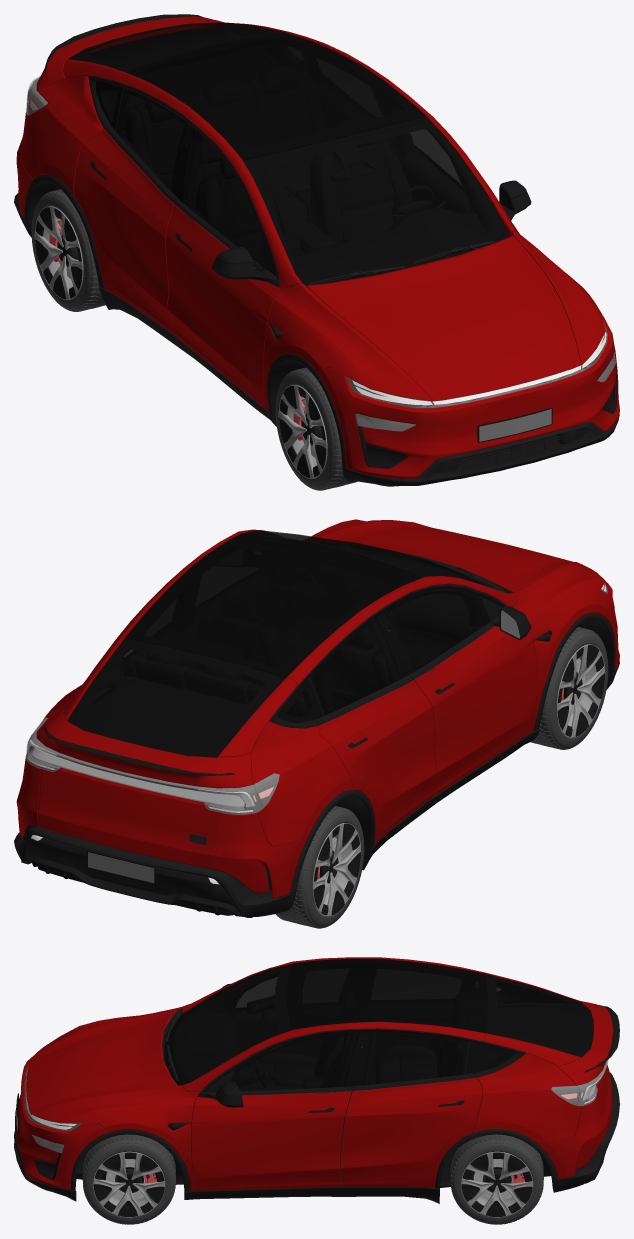
Rendered from 2026_tesla_model_y_performance.glb.
3 renders of one model, top to bottom at view 1: azimuth 30°, elevation 25°; view 2: azimuth 150°, elevation 25°; view 3: azimuth 270°, elevation 25°, orthographic. The views are drawn at different scales.
Visible parts, largest first — view 1: Object_5, Object_9, Object_34, Object_3, Object_35, Object_38, Object_36, Object_18, Object_23, Object_32, Object_10, Object_33 (+6 smaller); view 2: Object_5, Object_9, Object_3, Object_34, Object_35, Object_38, Object_18, Object_36, Object_23, Object_39, Object_32, Object_33 (+5 smaller); view 3: Object_5, Object_9, Object_34, Object_35, Object_3, Object_38, Object_23, Object_17, Object_32, Object_20, Object_19, Object_33 (+5 smaller).
Boxes of the visible parts, x1=… form: Object_5: x1=16, y1=16, x2=619, y2=478; Object_9: x1=68, y1=22, x2=509, y2=290; Object_34: x1=72, y1=25, x2=495, y2=381; Object_3: x1=126, y1=33, x2=424, y2=160; Object_35: x1=14, y1=23, x2=615, y2=467; Object_38: x1=44, y1=14, x2=617, y2=484; Object_36: x1=35, y1=207, x2=619, y2=486; Object_18: x1=27, y1=76, x2=327, y2=478; Object_23: x1=31, y1=195, x2=334, y2=488; Object_32: x1=27, y1=124, x2=613, y2=441; Object_10: x1=346, y1=325, x2=607, y2=407; Object_33: x1=26, y1=77, x2=615, y2=431; Object_5: x1=16, y1=519, x2=619, y2=898; Object_9: x1=67, y1=530, x2=489, y2=757; Object_3: x1=125, y1=533, x2=422, y2=677; Object_34: x1=64, y1=534, x2=489, y2=768; Object_35: x1=14, y1=531, x2=615, y2=917; Object_38: x1=32, y1=583, x2=575, y2=916; Object_18: x1=27, y1=644, x2=605, y2=916; Object_36: x1=313, y1=548, x2=619, y2=915; Object_23: x1=305, y1=633, x2=608, y2=926; Object_39: x1=26, y1=717, x2=279, y2=814; Object_32: x1=206, y1=584, x2=613, y2=891; Object_33: x1=26, y1=552, x2=596, y2=814; Object_5: x1=16, y1=957, x2=613, y2=1191; Object_9: x1=164, y1=964, x2=593, y2=1091; Object_34: x1=173, y1=971, x2=593, y2=1183; Object_35: x1=71, y1=965, x2=619, y2=1216; Object_3: x1=285, y1=958, x2=487, y2=1032; Object_38: x1=14, y1=970, x2=619, y2=1183; Object_23: x1=85, y1=1143, x2=541, y2=1223; Object_17: x1=93, y1=1046, x2=533, y2=1217; Object_32: x1=25, y1=1032, x2=581, y2=1193; Object_20: x1=450, y1=1134, x2=543, y2=1224; Object_19: x1=82, y1=1134, x2=175, y2=1224; Object_33: x1=32, y1=1008, x2=607, y2=1152.
Size of the model in its own units: 2.12 by 1.65 by 4.78.
23 materials, 1 textured.
